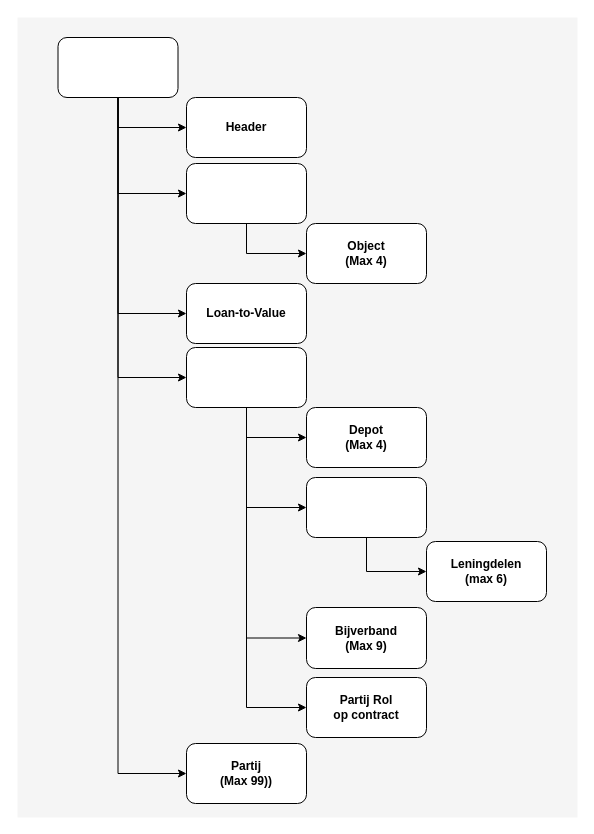
The diagram is 594 pixels wide and 834 high, and some of its shapes have lost their labels. The shapes that lost their labels are listed below. From the top down, each one's centre as x and y in pixels, then its label:
(x=117, y=67): Informatie Bericht (IX)
(x=246, y=193): Onderpand
(x=246, y=377): Hypotheek (Max 9)
(x=366, y=507): Lening
